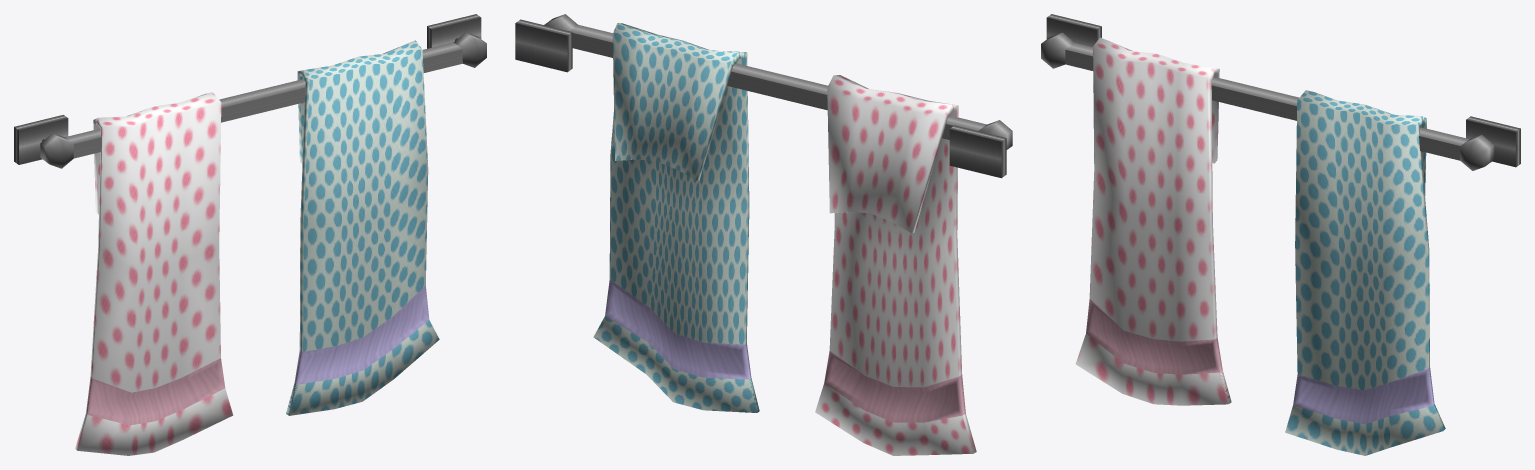
The model's file is Towel_Rack_01.FBX.
3 renders of one model, left to right at view 1: azimuth 30°, elevation 25°; view 2: azimuth 150°, elevation 25°; view 3: azimuth 330°, elevation 25°, orthographic. The views are drawn at different scales.
Visible parts, largest first — view 1: Towel_Rack; view 2: Towel_Rack; view 3: Towel_Rack.
Part boxes in pixels (x1=…): Towel_Rack: x1=14, y1=14, x2=486, y2=455; Towel_Rack: x1=515, y1=14, x2=1012, y2=455; Towel_Rack: x1=1041, y1=14, x2=1520, y2=455.
Size of the model in its own units: 174 by 125 by 19.24.
